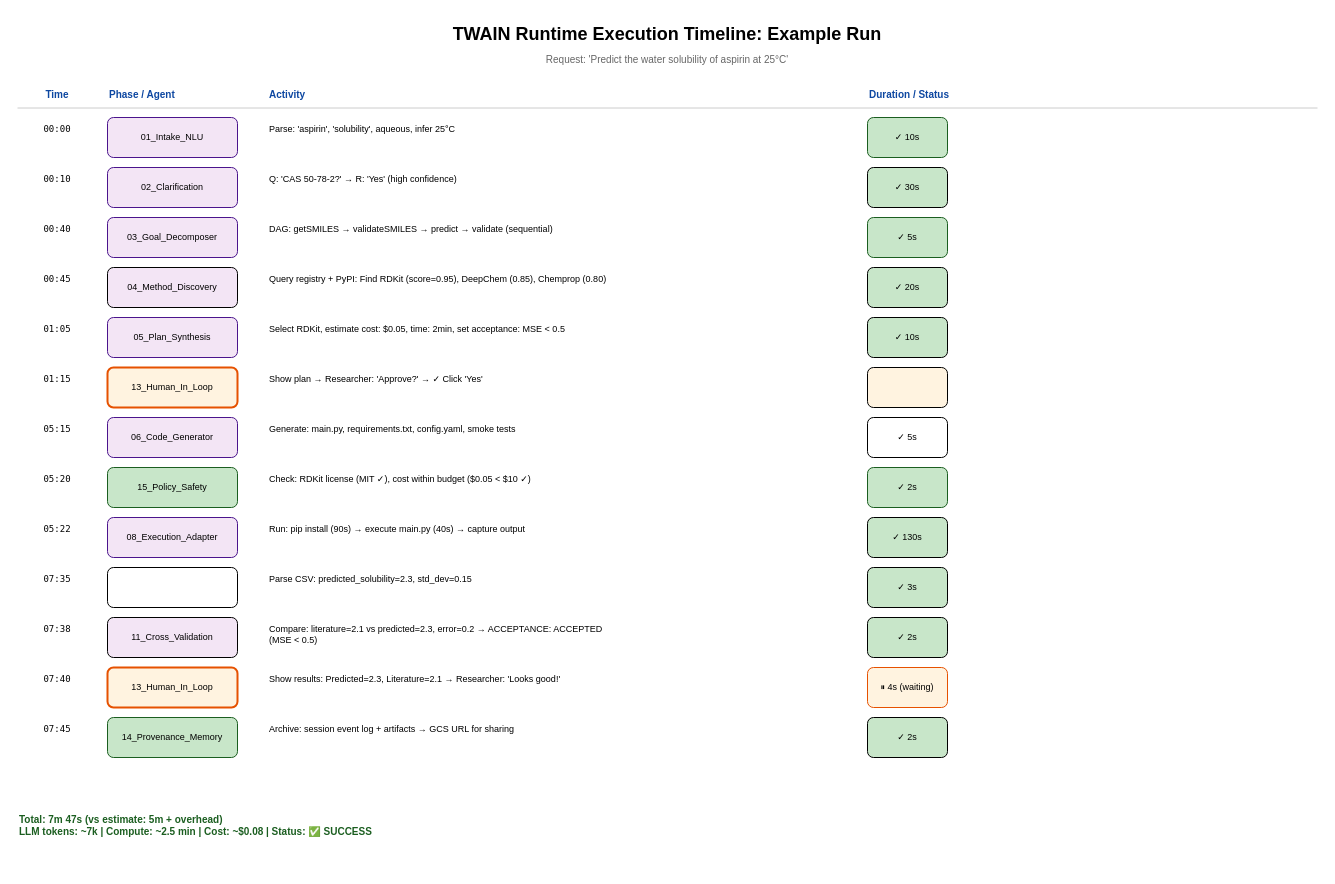
Image size: 1335x884. Some labels were removed from this diagram. The box of each missing label's shape, as (x1, y1, x2, y2) in pixels:
10_Result_Interpreter: (106, 566, 238, 608)
⏸ 4m (waiting): (866, 366, 948, 408)
